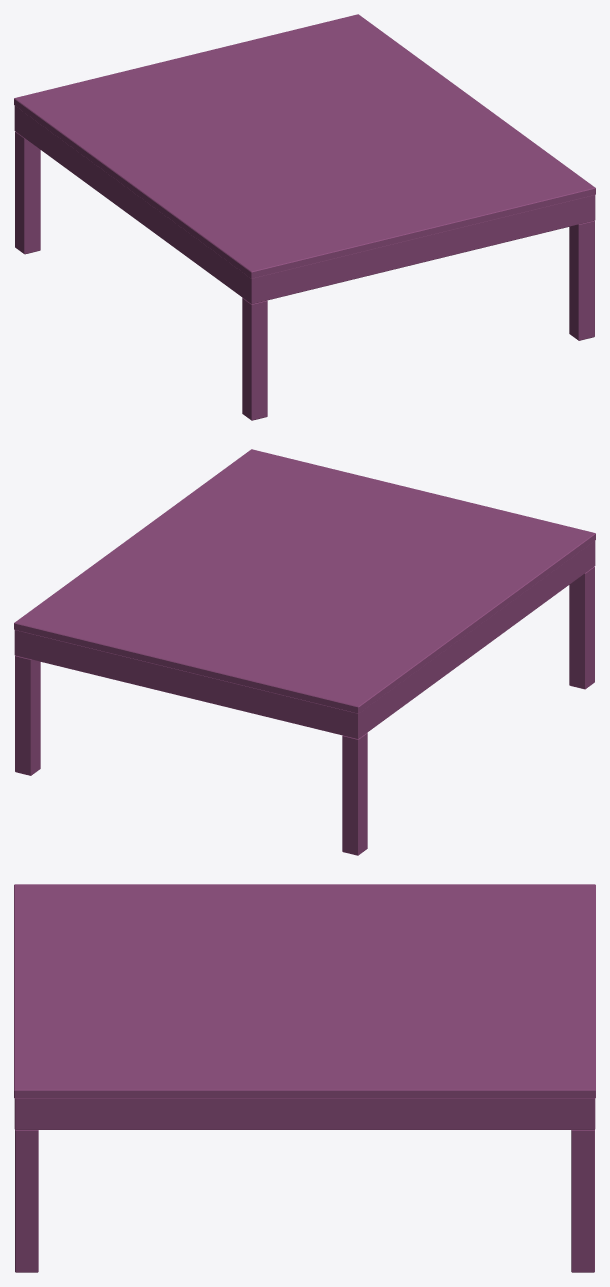
Rendered from mesa_de_centro.obj.
3 renders of one model, top to bottom at view 1: azimuth 30°, elevation 25°; view 2: azimuth 150°, elevation 25°; view 3: azimuth 270°, elevation 25°, orthographic. The views are drawn at different scales.
Parts seen in each view (by area): view 1: Table_2:Box02, Table_2:Box20, Table_2:Box19, Table_2:Box21; view 2: Table_2:Box02, Table_2:Box21, Table_2:Box06, Table_2:Box20; view 3: Table_2:Box02, Table_2:Box06, Table_2:Box19.
Part boxes in pixels (x1,y1,x2,y2): Table_2:Box02: (14, 14, 595, 303); Table_2:Box20: (242, 297, 267, 420); Table_2:Box19: (569, 220, 594, 340); Table_2:Box21: (15, 131, 40, 254); Table_2:Box02: (14, 449, 595, 738); Table_2:Box21: (342, 732, 367, 855); Table_2:Box06: (15, 655, 40, 775); Table_2:Box20: (569, 566, 594, 689); Table_2:Box02: (14, 884, 595, 1129); Table_2:Box06: (571, 1130, 594, 1272); Table_2:Box19: (15, 1130, 38, 1272).
Size of the model in its own units: 0.7295 by 0.3028 by 0.8705.
Materials: 1 (1 with a texture image).
